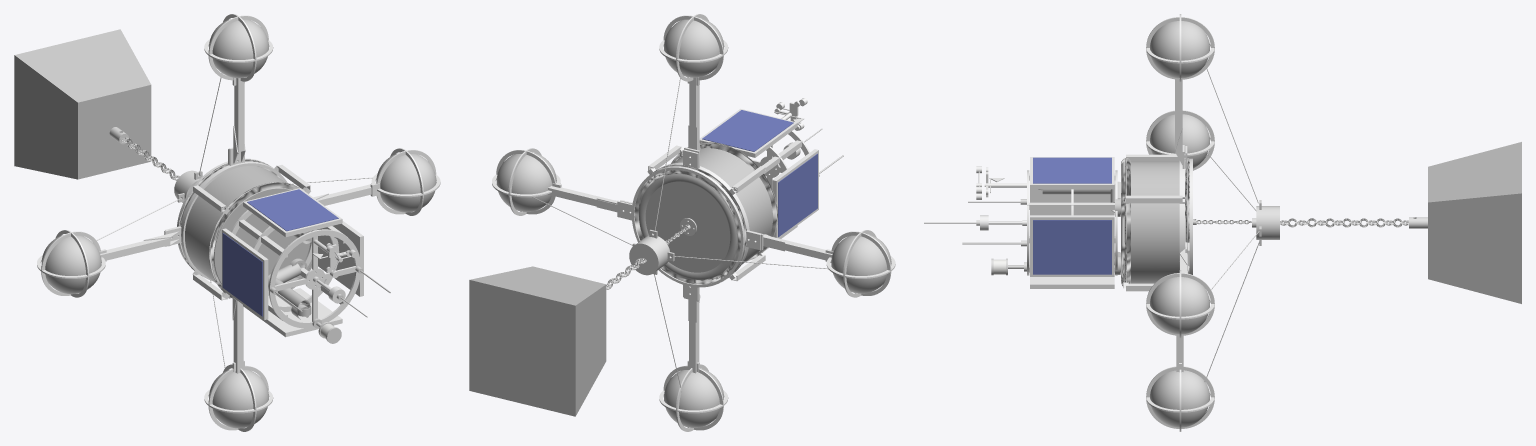
Rendered from FALCON-01-original.glb.
3 views of the same model, side by side, from view 1: azimuth 30°, elevation 25°; view 2: azimuth 150°, elevation 25°; view 3: azimuth 270°, elevation 25° (orthographic).
Parts seen in each view (by area): view 1: ANCHOR_REINFORCED_CONCRETE_BODY, UPPER_FRAME_6061_BODY, MAIN_FLOAT_HDPE_BODY, STABILIZER_BUOY_01_HDPE_BODY, STABILIZER_BUOY_04_HDPE_BODY, STABILIZER_BUOY_02_HDPE_BODY, STABILIZER_BUOY_03_HDPE_BODY, TOP_CAP_HDPE_BODY, SOLAR_PANEL_04_MONOCRYSTALLINE_FACE, SOLAR_PANEL_01_MONOCRYSTALLINE_FACE, SOLAR_PANEL_02_ALUMINUM_FRAME, FRAME_6061_COLLAR_BODY (+14 smaller); view 2: ANCHOR_REINFORCED_CONCRETE_BODY, MAIN_FLOAT_HDPE_BODY, FRAME_6061_COLLAR_BODY, STABILIZER_BUOY_03_HDPE_BODY, STABILIZER_BUOY_02_HDPE_BODY, STABILIZER_BUOY_01_HDPE_BODY, STABILIZER_BUOY_04_HDPE_BODY, SOLAR_PANEL_04_MONOCRYSTALLINE_FACE, SOLAR_PANEL_01_MONOCRYSTALLINE_FACE, MAIN_FLOAT_HDPE_BODY (1), MAIN_FLOAT_LOWER_ROUNDED_FAIRING_HDPE_BODY, BALLAST_316SS_CORE (+12 smaller); view 3: ANCHOR_REINFORCED_CONCRETE_BODY, MAIN_FLOAT_HDPE_BODY, SOLAR_PANEL_02_MONOCRYSTALLINE_FACE, STABILIZER_BUOY_01_HDPE_BODY, STABILIZER_BUOY_02_HDPE_BODY, STABILIZER_BUOY_04_HDPE_BODY, SOLAR_PANEL_01_MONOCRYSTALLINE_FACE, STABILIZER_BUOY_03_HDPE_BODY, UPPER_FRAME_6061_BODY, SOLAR_PANEL_04_ALUMINUM_FRAME, MAIN_FLOAT_UPPER_ROUNDED_FAIRING_HDPE_BODY, FRAME_6061_COLLAR_BODY (+9 smaller).
Boxes of the visible parts, left/top/right/bottom form: ANCHOR_REINFORCED_CONCRETE_BODY: left=14, top=29, right=151, bottom=179; UPPER_FRAME_6061_BODY: left=230, top=210, right=361, bottom=328; MAIN_FLOAT_HDPE_BODY: left=185, top=166, right=285, bottom=283; STABILIZER_BUOY_01_HDPE_BODY: left=376, top=153, right=436, bottom=212; STABILIZER_BUOY_04_HDPE_BODY: left=209, top=370, right=268, bottom=428; STABILIZER_BUOY_02_HDPE_BODY: left=209, top=19, right=268, bottom=78; STABILIZER_BUOY_03_HDPE_BODY: left=41, top=235, right=101, bottom=294; TOP_CAP_HDPE_BODY: left=214, top=188, right=311, bottom=295; SOLAR_PANEL_04_MONOCRYSTALLINE_FACE: left=222, top=233, right=262, bottom=316; SOLAR_PANEL_01_MONOCRYSTALLINE_FACE: left=247, top=189, right=338, bottom=231; SOLAR_PANEL_02_ALUMINUM_FRAME: left=317, top=221, right=363, bottom=296; FRAME_6061_COLLAR_BODY: left=165, top=148, right=287, bottom=280; ANCHOR_REINFORCED_CONCRETE_BODY: left=469, top=266, right=606, bottom=416; MAIN_FLOAT_HDPE_BODY: left=645, top=148, right=772, bottom=274; FRAME_6061_COLLAR_BODY: left=620, top=149, right=761, bottom=300; STABILIZER_BUOY_03_HDPE_BODY: left=831, top=234, right=891, bottom=293; STABILIZER_BUOY_02_HDPE_BODY: left=664, top=18, right=723, bottom=77; STABILIZER_BUOY_01_HDPE_BODY: left=496, top=152, right=556, bottom=211; STABILIZER_BUOY_04_HDPE_BODY: left=664, top=368, right=723, bottom=427; SOLAR_PANEL_04_MONOCRYSTALLINE_FACE: left=778, top=153, right=817, bottom=237; SOLAR_PANEL_01_MONOCRYSTALLINE_FACE: left=702, top=110, right=793, bottom=151; MAIN_FLOAT_HDPE_BODY (1): left=639, top=174, right=736, bottom=279; MAIN_FLOAT_LOWER_ROUNDED_FAIRING_HDPE_BODY: left=634, top=164, right=746, bottom=284; BALLAST_316SS_CORE: left=629, top=229, right=674, bottom=275; ANCHOR_REINFORCED_CONCRETE_BODY: left=1428, top=142, right=1521, bottom=303; MAIN_FLOAT_HDPE_BODY: left=1130, top=161, right=1179, bottom=283; SOLAR_PANEL_02_MONOCRYSTALLINE_FACE: left=1033, top=220, right=1111, bottom=274; STABILIZER_BUOY_01_HDPE_BODY: left=1150, top=277, right=1209, bottom=334; STABILIZER_BUOY_02_HDPE_BODY: left=1150, top=21, right=1209, bottom=78; STABILIZER_BUOY_04_HDPE_BODY: left=1150, top=370, right=1209, bottom=427; SOLAR_PANEL_01_MONOCRYSTALLINE_FACE: left=1033, top=157, right=1111, bottom=183; STABILIZER_BUOY_03_HDPE_BODY: left=1150, top=114, right=1209, bottom=168; UPPER_FRAME_6061_BODY: left=1027, top=170, right=1117, bottom=275; SOLAR_PANEL_04_ALUMINUM_FRAME: left=1030, top=189, right=1114, bottom=215; MAIN_FLOAT_UPPER_ROUNDED_FAIRING_HDPE_BODY: left=1121, top=158, right=1130, bottom=286; FRAME_6061_COLLAR_BODY: left=1179, top=146, right=1192, bottom=274.
Size of the model in its own units: 2.42 by 2.42 by 3.18.
